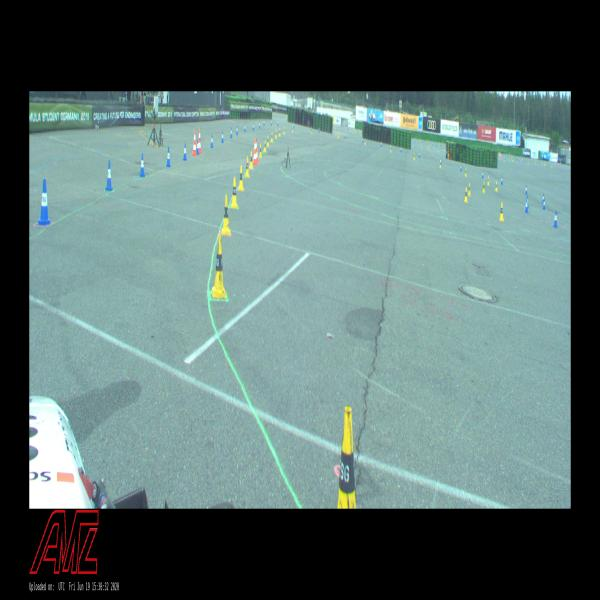blue_cone: (37, 179, 51, 225), (105, 160, 113, 191), (140, 153, 145, 178), (166, 148, 171, 168), (553, 210, 558, 228), (209, 134, 214, 148), (196, 138, 200, 155), (183, 144, 187, 160), (524, 198, 528, 214), (542, 198, 545, 210), (221, 132, 224, 143), (526, 195, 528, 207), (500, 176, 503, 184), (230, 128, 232, 138), (542, 194, 544, 204), (236, 126, 238, 135), (525, 186, 527, 195), (244, 124, 246, 132), (482, 170, 484, 178), (460, 164, 462, 172), (440, 157, 442, 165), (252, 123, 254, 130), (418, 151, 420, 158), (263, 120, 265, 126), (277, 120, 279, 126), (400, 146, 402, 152), (380, 141, 382, 147), (362, 137, 364, 143), (344, 133, 346, 139), (318, 128, 320, 132), (259, 122, 260, 128), (293, 122, 294, 128), (271, 121, 272, 126)
large_orange_cone: (252, 139, 258, 165), (192, 130, 196, 157), (199, 129, 202, 155), (256, 138, 258, 163)
yellow_cone: (330, 408, 363, 508), (211, 236, 226, 300), (221, 194, 231, 236), (230, 177, 239, 210), (238, 166, 245, 191), (244, 157, 250, 178), (499, 202, 504, 222), (248, 150, 252, 168), (467, 183, 471, 196), (464, 188, 467, 202), (259, 144, 262, 158), (482, 182, 485, 193), (264, 139, 266, 152), (464, 168, 467, 176), (267, 136, 269, 146), (271, 132, 273, 142), (495, 181, 497, 191), (275, 129, 277, 138), (487, 176, 489, 185), (278, 128, 280, 136), (439, 160, 441, 168), (283, 127, 285, 134), (337, 132, 339, 139), (364, 138, 366, 145), (413, 153, 415, 160), (292, 125, 293, 132), (311, 127, 312, 134), (390, 146, 391, 152)
